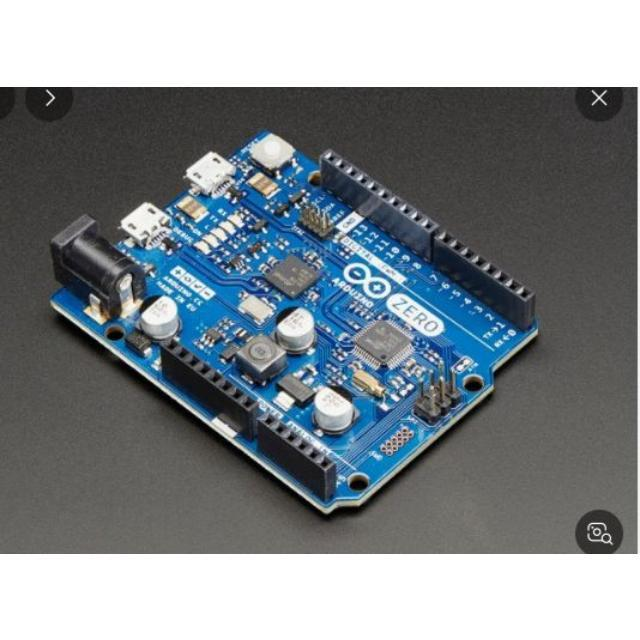Arduino-Zero: (51, 132, 539, 515)
